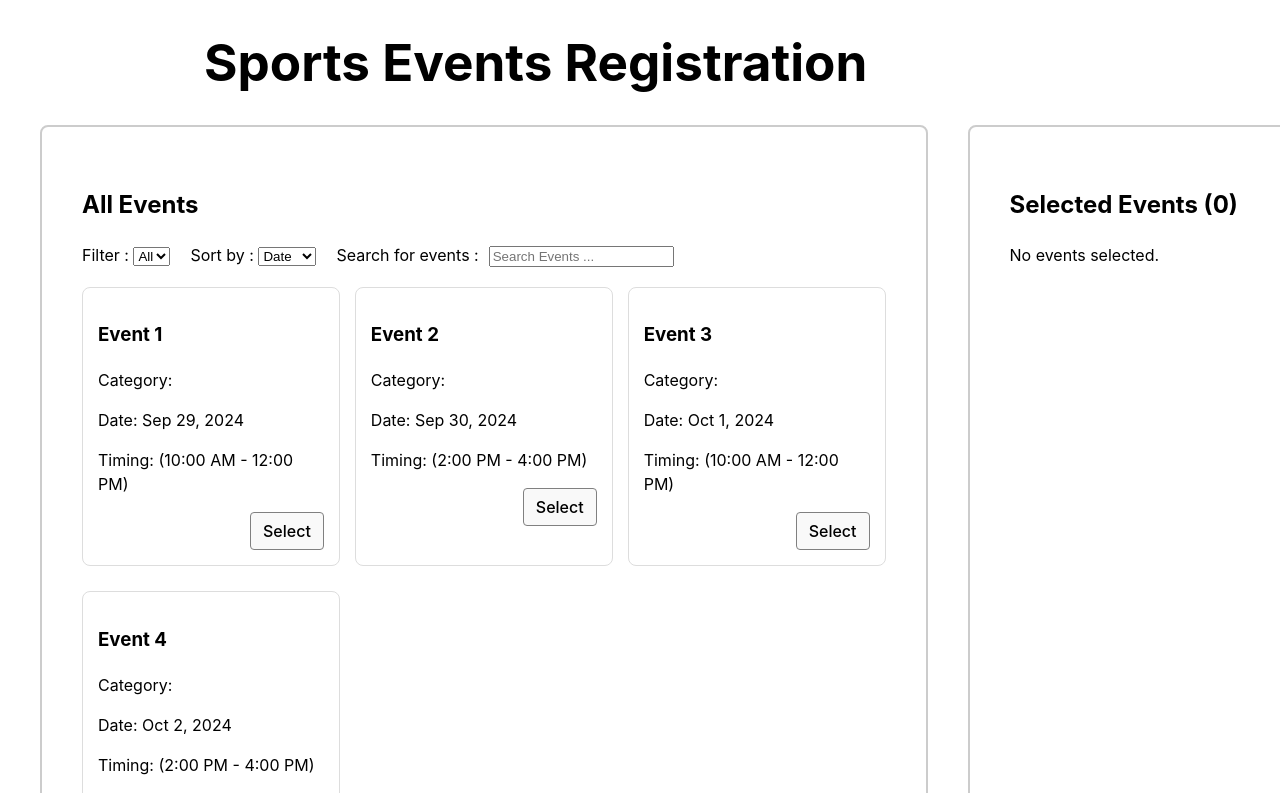
Test: App Component › should allow selecting an event
Check: the heading "Event 1" is shown, box [98,323,162,346]
Click the button "Select" below "Sep 29, 2024". click: {"x": 287, "y": 531}
box: [250,512,324,550]
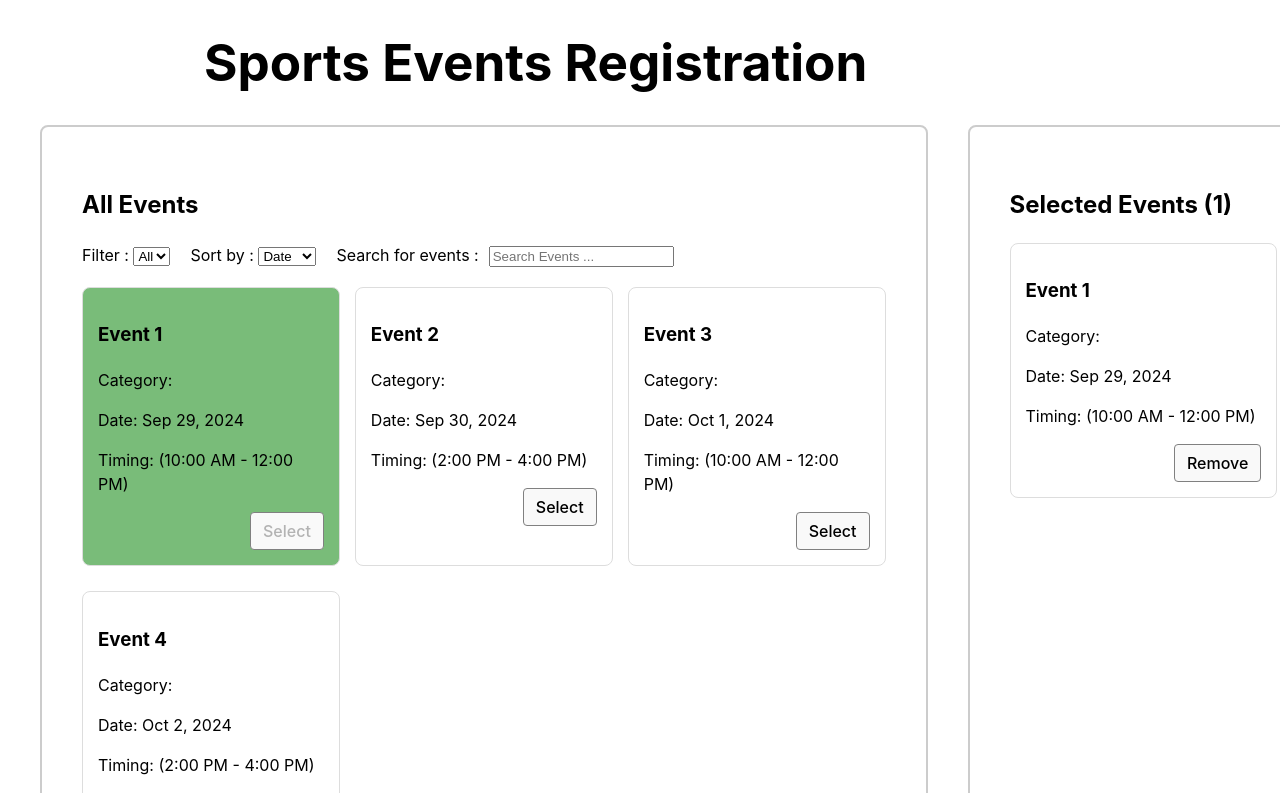
Check: the button "Remove" is shown, box [1174,444,1261,482]
